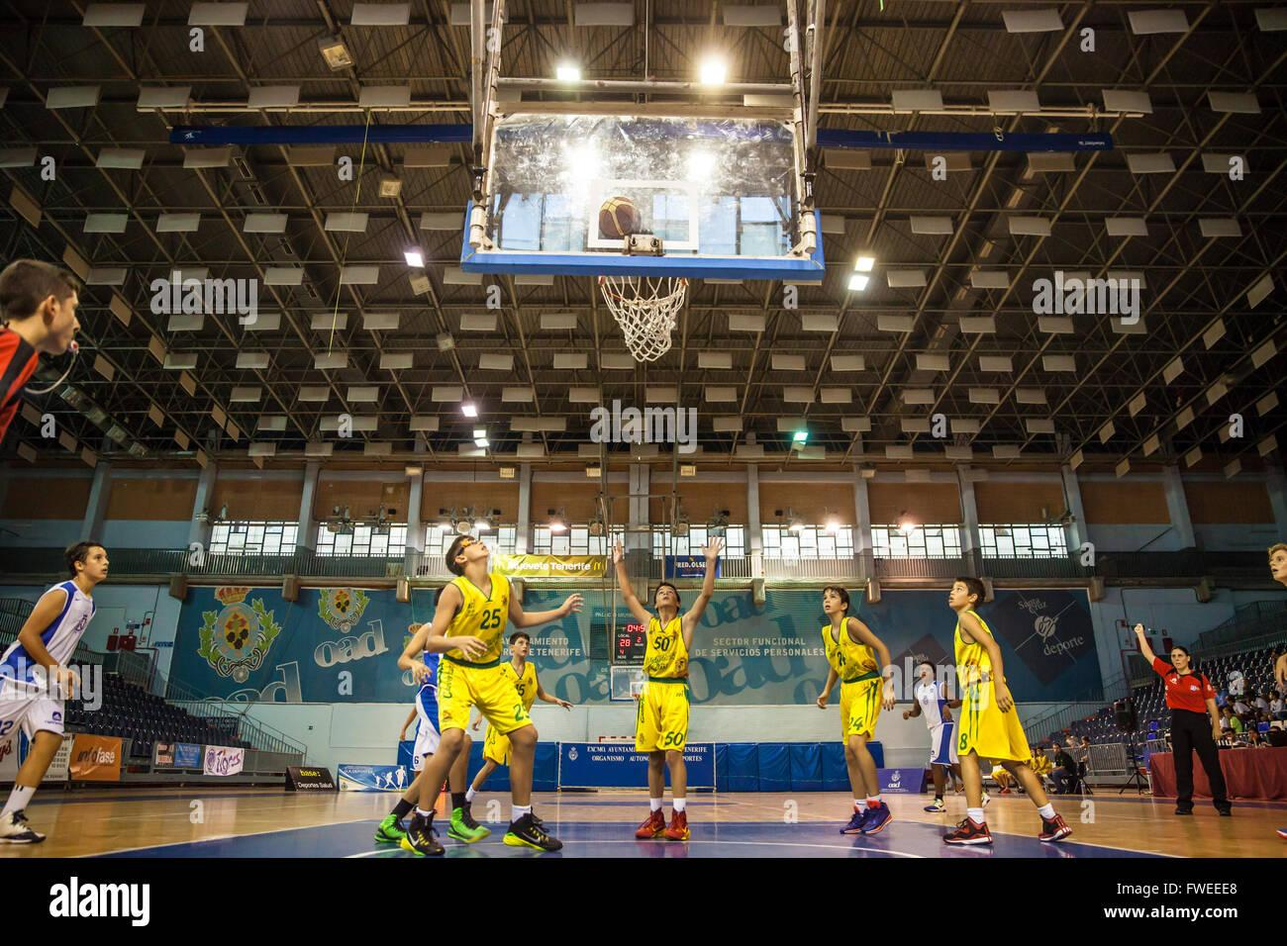basketball: (595, 199, 643, 246)
